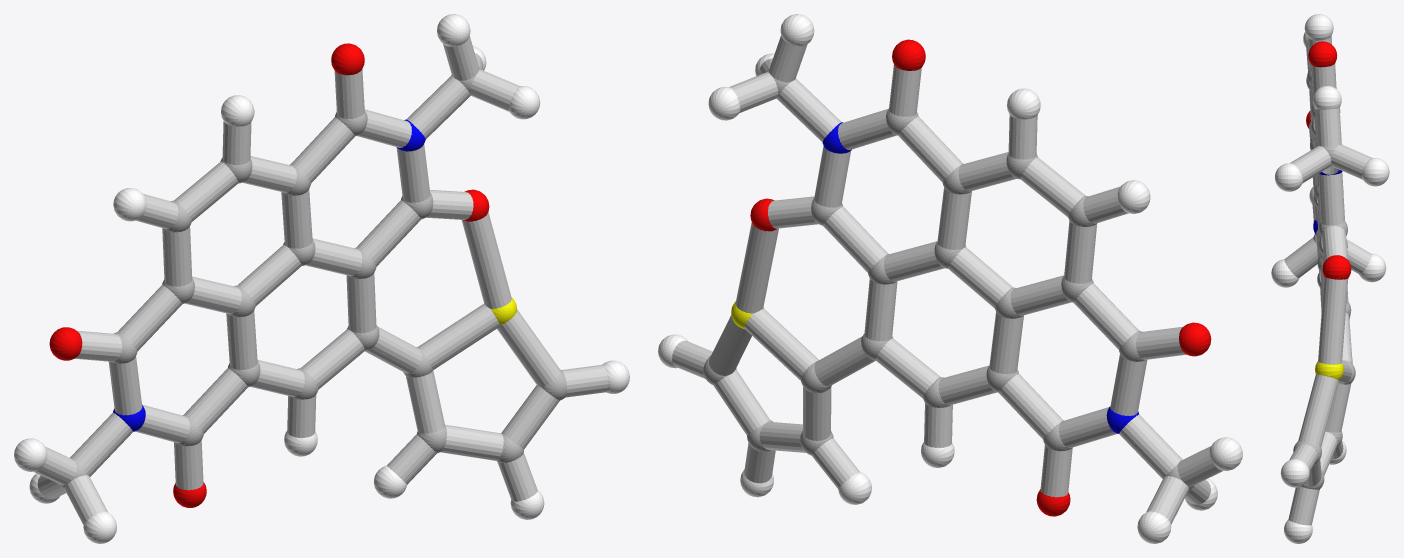
Rendered from Dimethyl_Naphthalene_Dicarboximide_Phi_20_Theta_180_Thiophene.glb.
3 views of the same model, side by side, from view 1: azimuth 30°, elevation 25°; view 2: azimuth 150°, elevation 25°; view 3: azimuth 270°, elevation 25° (orthographic). The views are drawn at different scales.
Visible parts, largest first — view 1: grp14119, grp7241, grp1, grp12309, grp11585; view 2: grp14119, grp7241, grp1, grp12309, grp11585; view 3: grp14119, grp7241, grp1, grp12309, grp13757.
Part boxes in pixels (left/top/right/bottom): grp14119: left=33, top=36, right=607, bottom=524; grp7241: left=14, top=14, right=629, bottom=543; grp1: left=59, top=67, right=566, bottom=489; grp12309: left=49, top=43, right=489, bottom=507; grp11585: left=113, top=119, right=425, bottom=431; grp14119: left=672, top=36, right=1223, bottom=524; grp7241: left=658, top=14, right=1242, bottom=543; grp1: left=703, top=69, right=1193, bottom=490; grp12309: left=750, top=39, right=1211, bottom=516; grp11585: left=822, top=122, right=1138, bottom=433; grp14119: left=1284, top=36, right=1371, bottom=525; grp7241: left=1271, top=14, right=1389, bottom=543; grp1: left=1293, top=69, right=1355, bottom=489; grp12309: left=1306, top=41, right=1351, bottom=279; grp13757: left=1315, top=361, right=1343, bottom=379.
Bounding box in the file's own units: 12.21 × 9.9 × 2.46.
